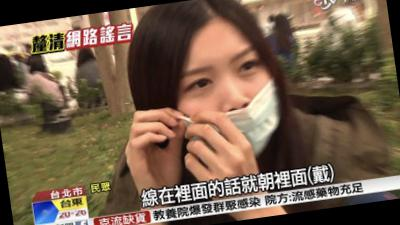mask_weared_incorrect: (170, 36, 290, 171)
